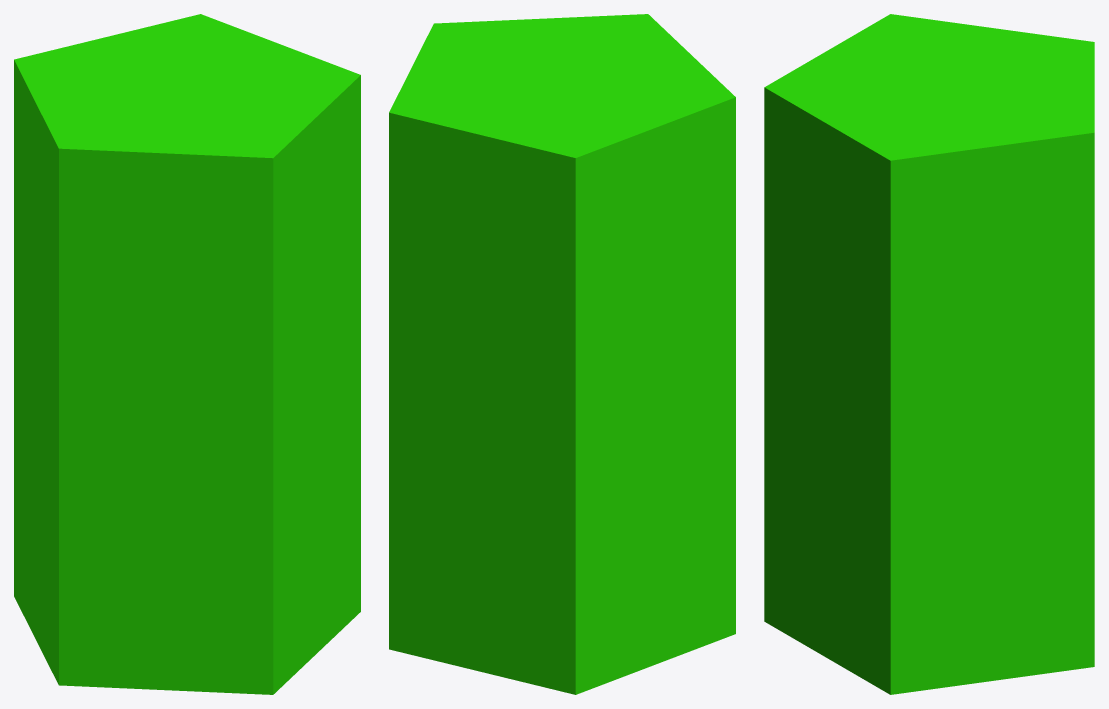
The model's file is Oil_Tank_01_Lod3.fbx.
The picture shows the model from 3 angles, left to right: view 1: azimuth 30°, elevation 25°; view 2: azimuth 150°, elevation 25°; view 3: azimuth 270°, elevation 25°; orthographic projection.
Parts seen in each view (by area): view 1: Oil_Tank_01_Lod3; view 2: Oil_Tank_01_Lod3; view 3: Oil_Tank_01_Lod3.
Part boxes in pixels (x1,y1,x2,y2): Oil_Tank_01_Lod3: [14, 14, 360, 694]; Oil_Tank_01_Lod3: [389, 14, 735, 694]; Oil_Tank_01_Lod3: [764, 14, 1094, 694].
Bounding box in the file's own units: 57.75 × 98.05 × 54.92.
